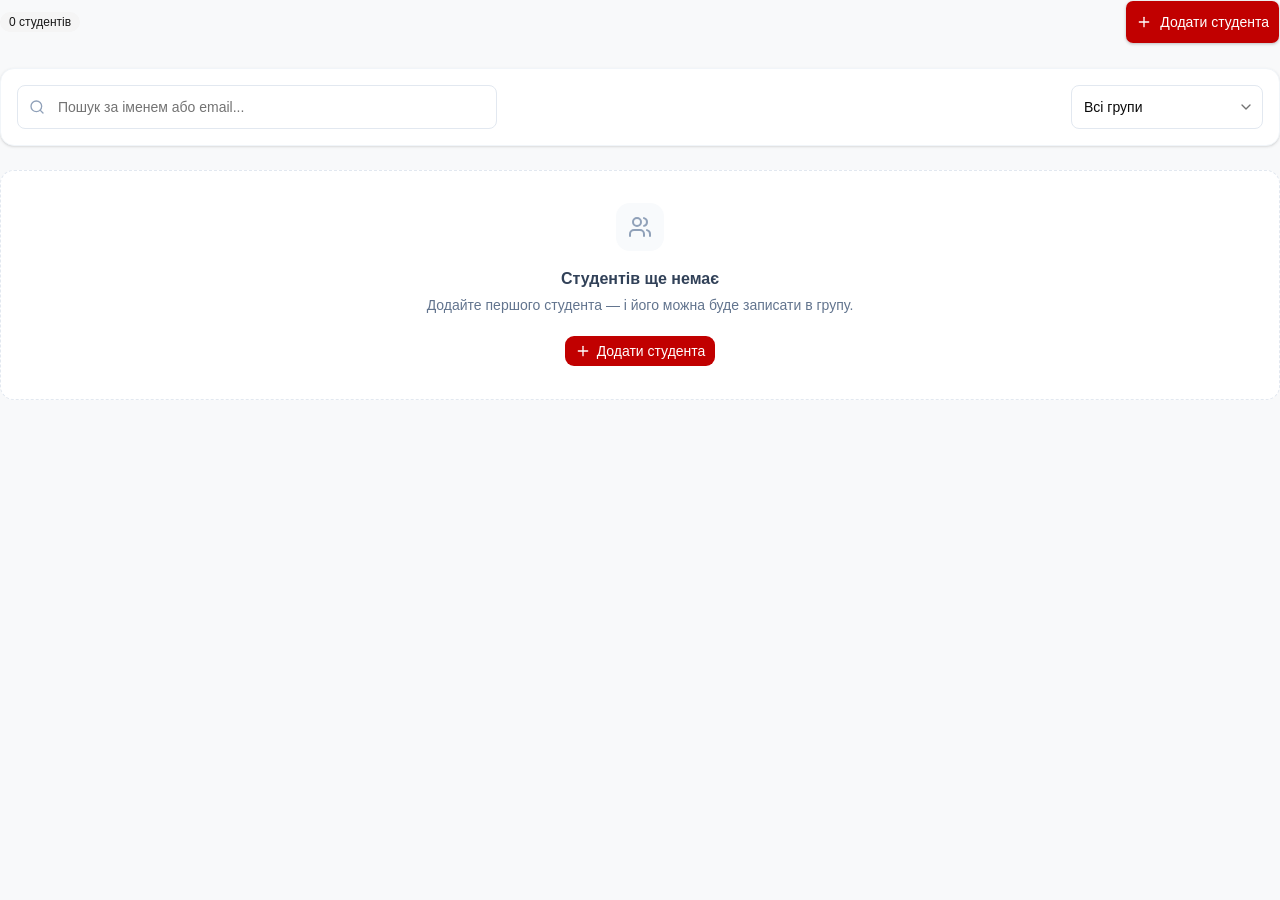
Test: StudentsPage — бал і відвідуваність › щойно створений студент — без оцінок і явки, а не з нулями
The width and height of the screenshot is (1280, 900).
Expected: the text "Студентів ще немає" is shown, top-left (561, 267), bottom-right (719, 291)
Click the 1st button "Додати студента".
click(1203, 22)  # box top-left (1125, 0), bottom-right (1279, 44)
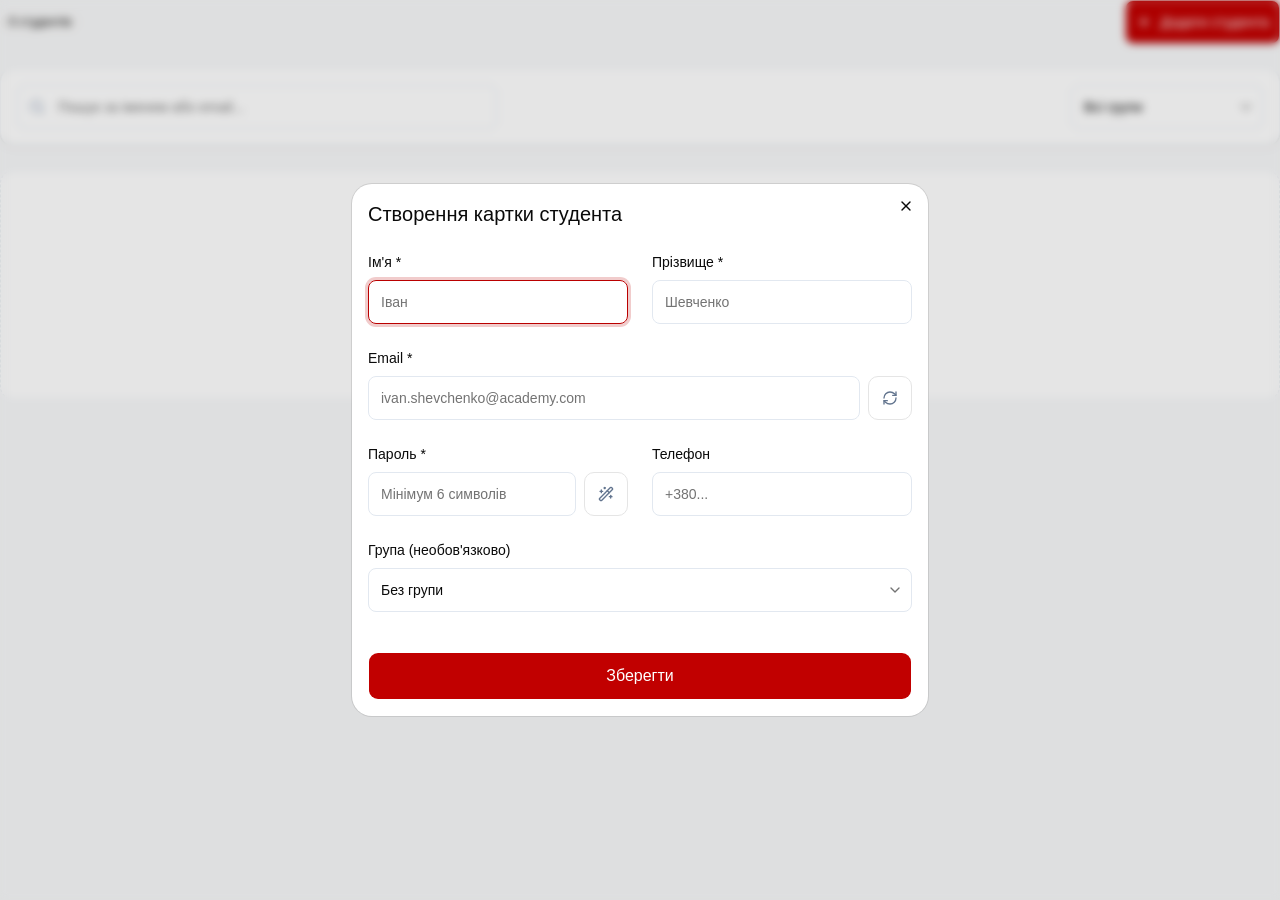
Type "Богдан" into the field labelled "Ім'я *".
click(498, 302); type("Богдан")  # box top-left (368, 280), bottom-right (628, 324)
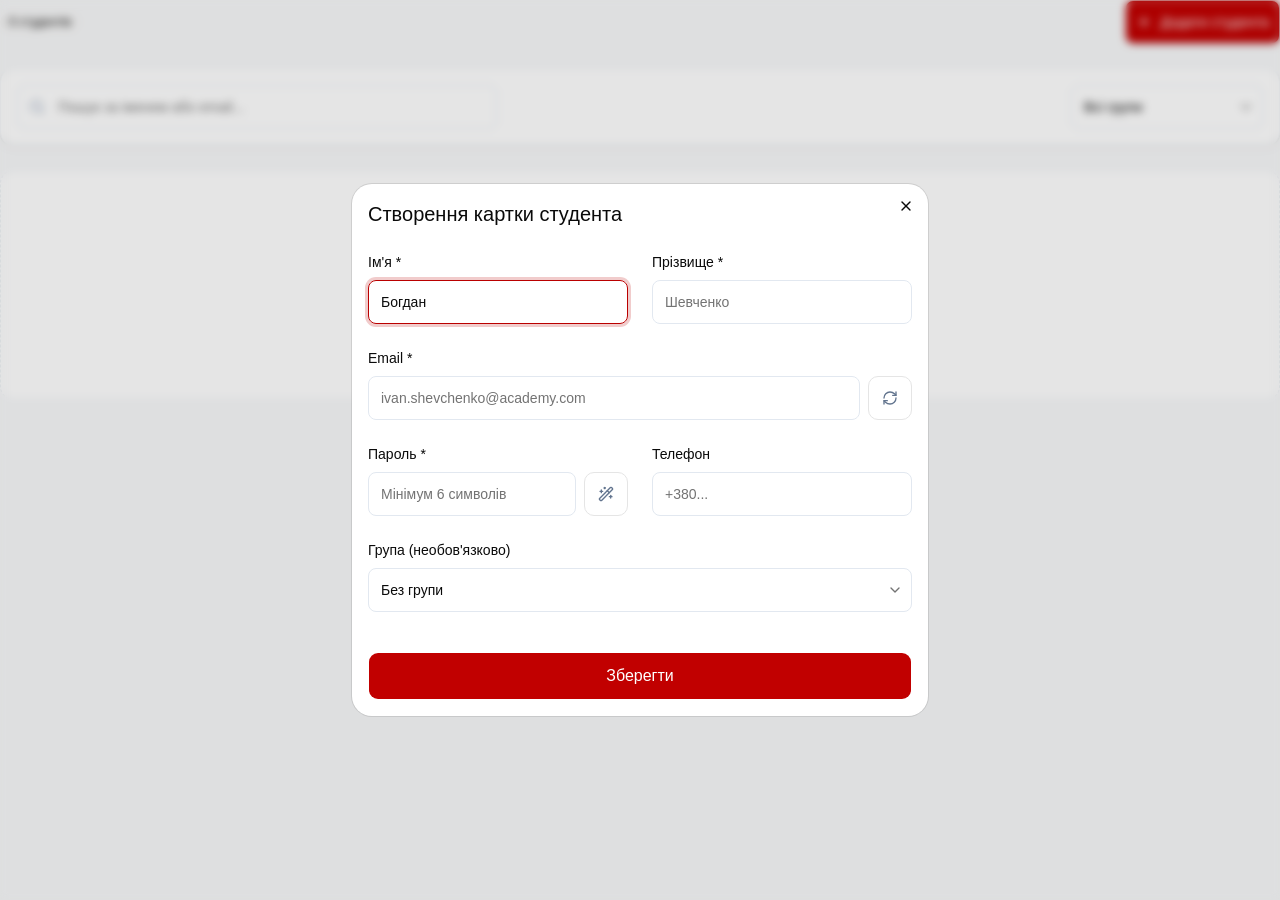
Type "Коваленко" into the field labelled "Прізвище *".
click(782, 302); type("Коваленко")  # box top-left (652, 280), bottom-right (912, 324)
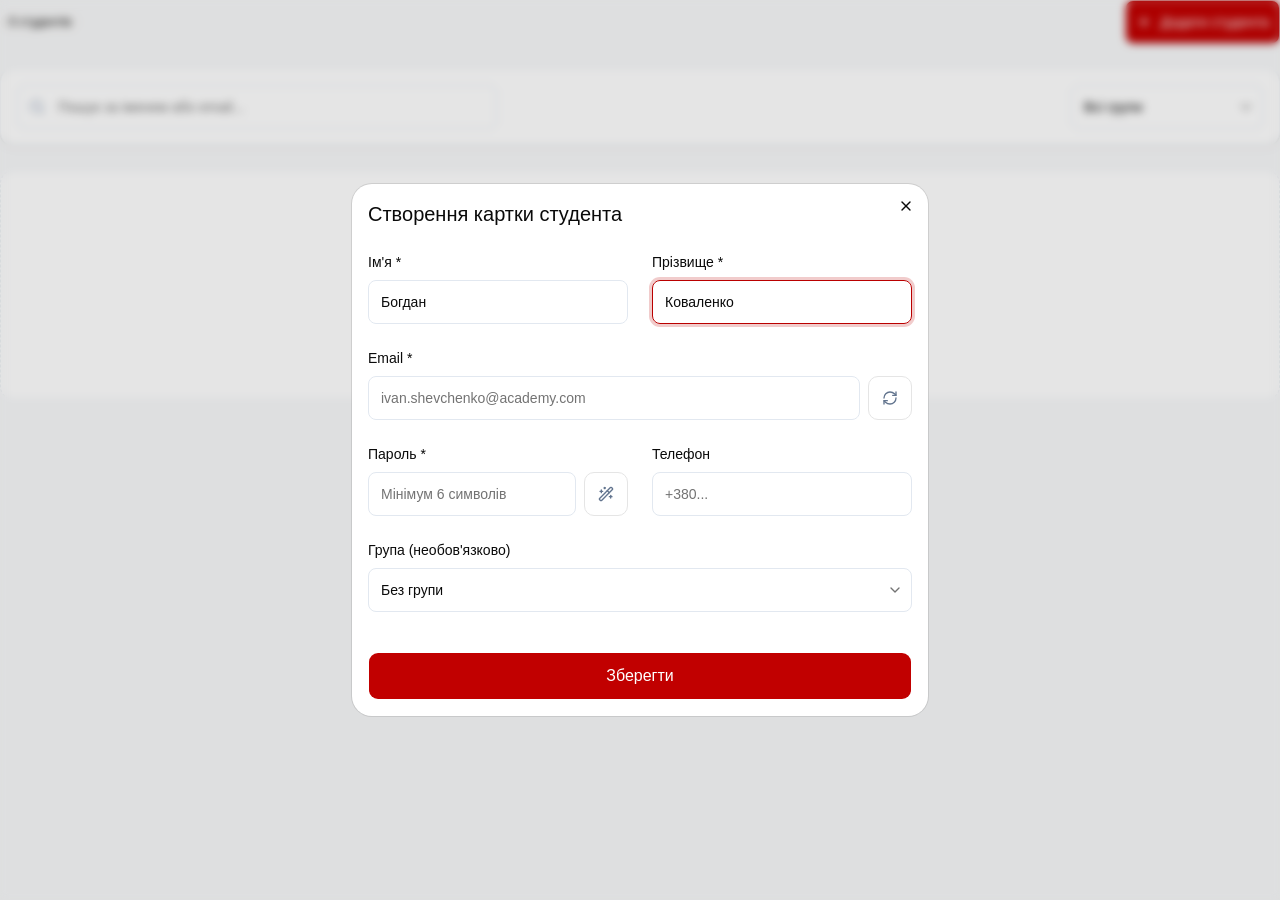
Type "bohdan@academy.ua" into the field labelled "Email *".
click(614, 398); type("bohdan@academy.ua")  # box top-left (368, 376), bottom-right (860, 420)
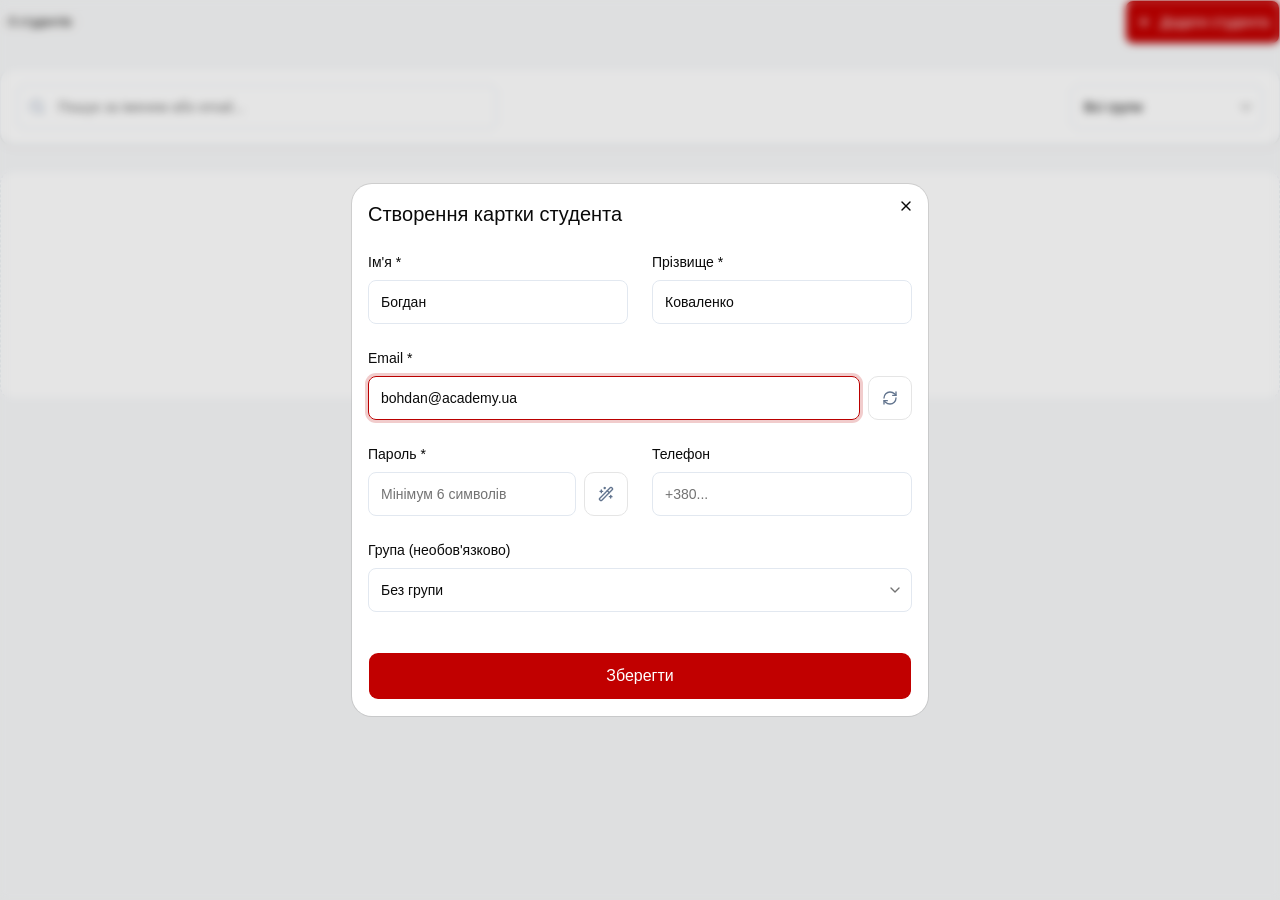
Click the button named "Згенерувати надійний пароль".
click(606, 494)  # box top-left (584, 472), bottom-right (628, 516)
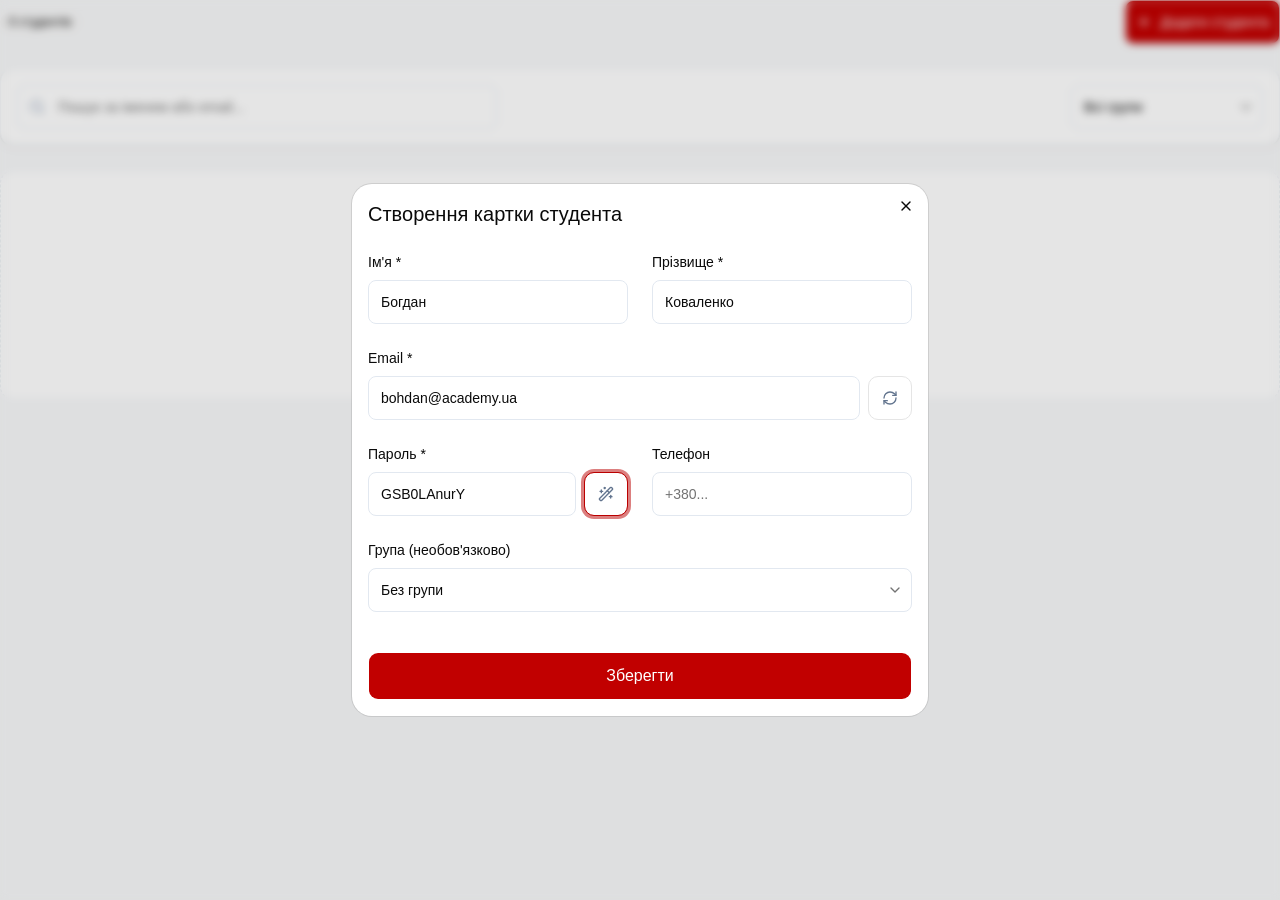
Click the button "Зберегти".
click(640, 676)  # box top-left (368, 652), bottom-right (912, 700)
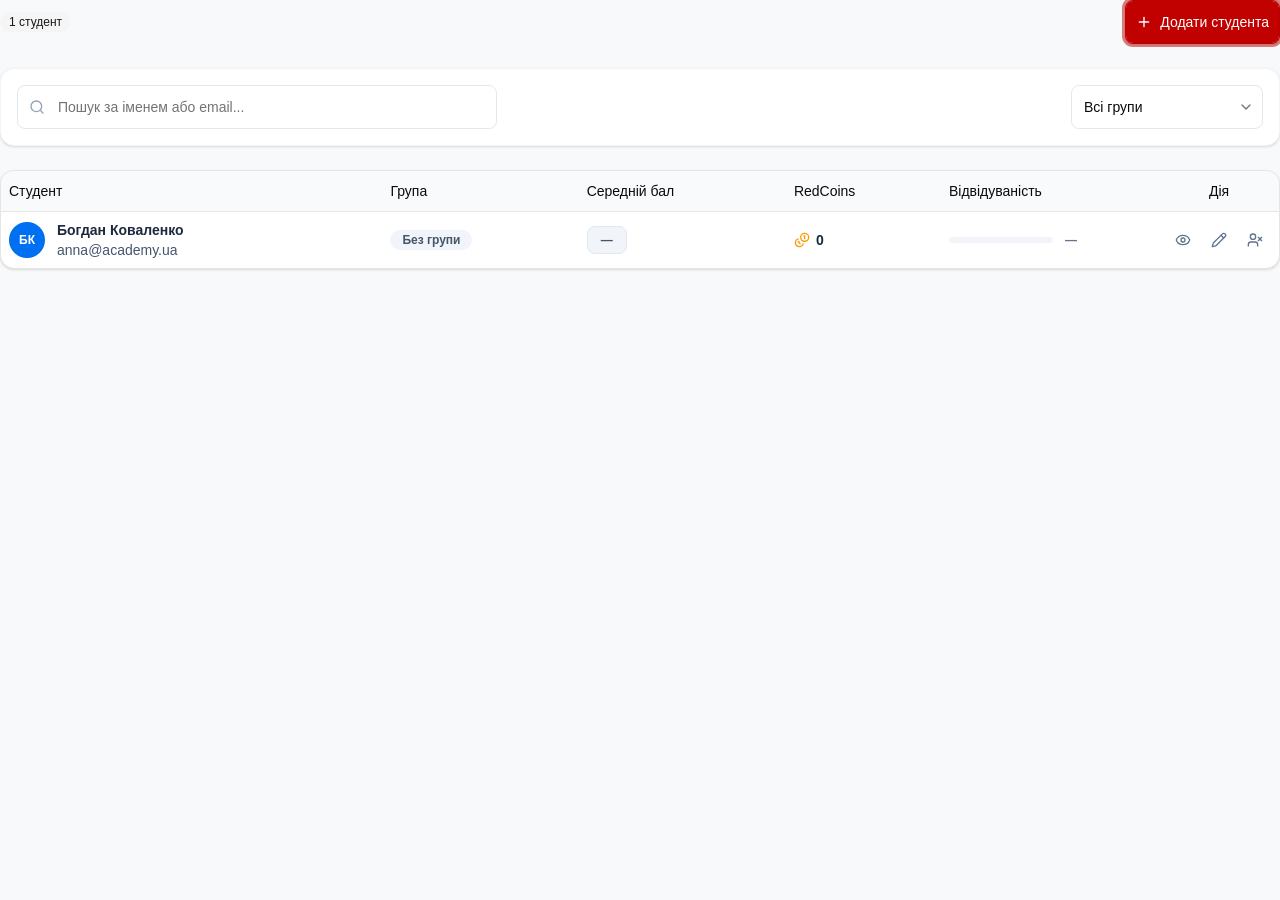
Expected: the 1st text titled "Оцінок ще немає" reads "—", top-left (601, 232), bottom-right (613, 246)
Expected: the element titled "Відміток явки ще немає" reads "—", top-left (1065, 232), bottom-right (1077, 246)
